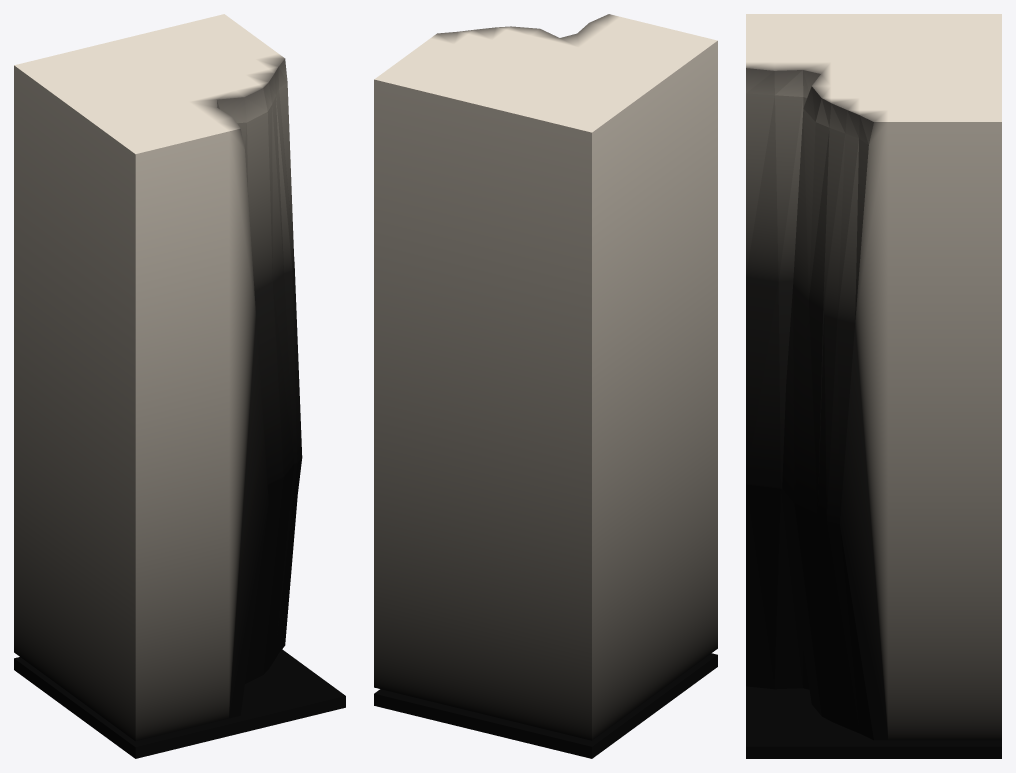
The model's file is SM_VKI_Ground_Cave_OXOO_Q10.fbx.
3 renders of one model, left to right at view 1: azimuth 30°, elevation 25°; view 2: azimuth 150°, elevation 25°; view 3: azimuth 270°, elevation 25°, orthographic. The views are drawn at different scales.
Parts seen in each view (by area): view 1: SM_VKI_Ground_Cave_OXOO_Q10.001; view 2: SM_VKI_Ground_Cave_OXOO_Q10.001; view 3: SM_VKI_Ground_Cave_OXOO_Q10.001.
Part boxes in pixels (bbox=[...]): SM_VKI_Ground_Cave_OXOO_Q10.001: bbox=[14, 14, 345, 758]; SM_VKI_Ground_Cave_OXOO_Q10.001: bbox=[374, 14, 717, 758]; SM_VKI_Ground_Cave_OXOO_Q10.001: bbox=[746, 14, 1001, 758].
Size of the model in its own units: 1.5 by 4.12 by 1.5.
